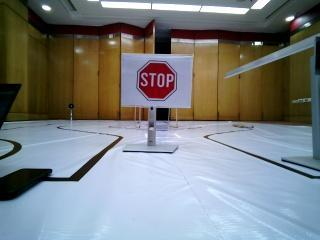stop: (123, 56, 188, 104)
